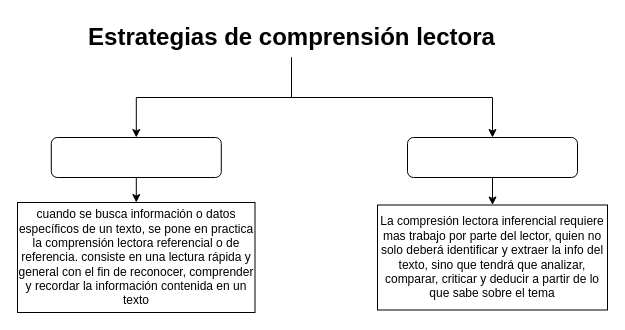
This 625x330 diagram has some shape labels left out. The shapes that lost their labels are listed below. From the top down, each one's centre as x and y in pixels, then its label:
At (x=135, y=157): "ESTRATEGIA REFERENCIAL".
At (x=492, y=157): "ESTRATEGIA INFERENCIAL".
